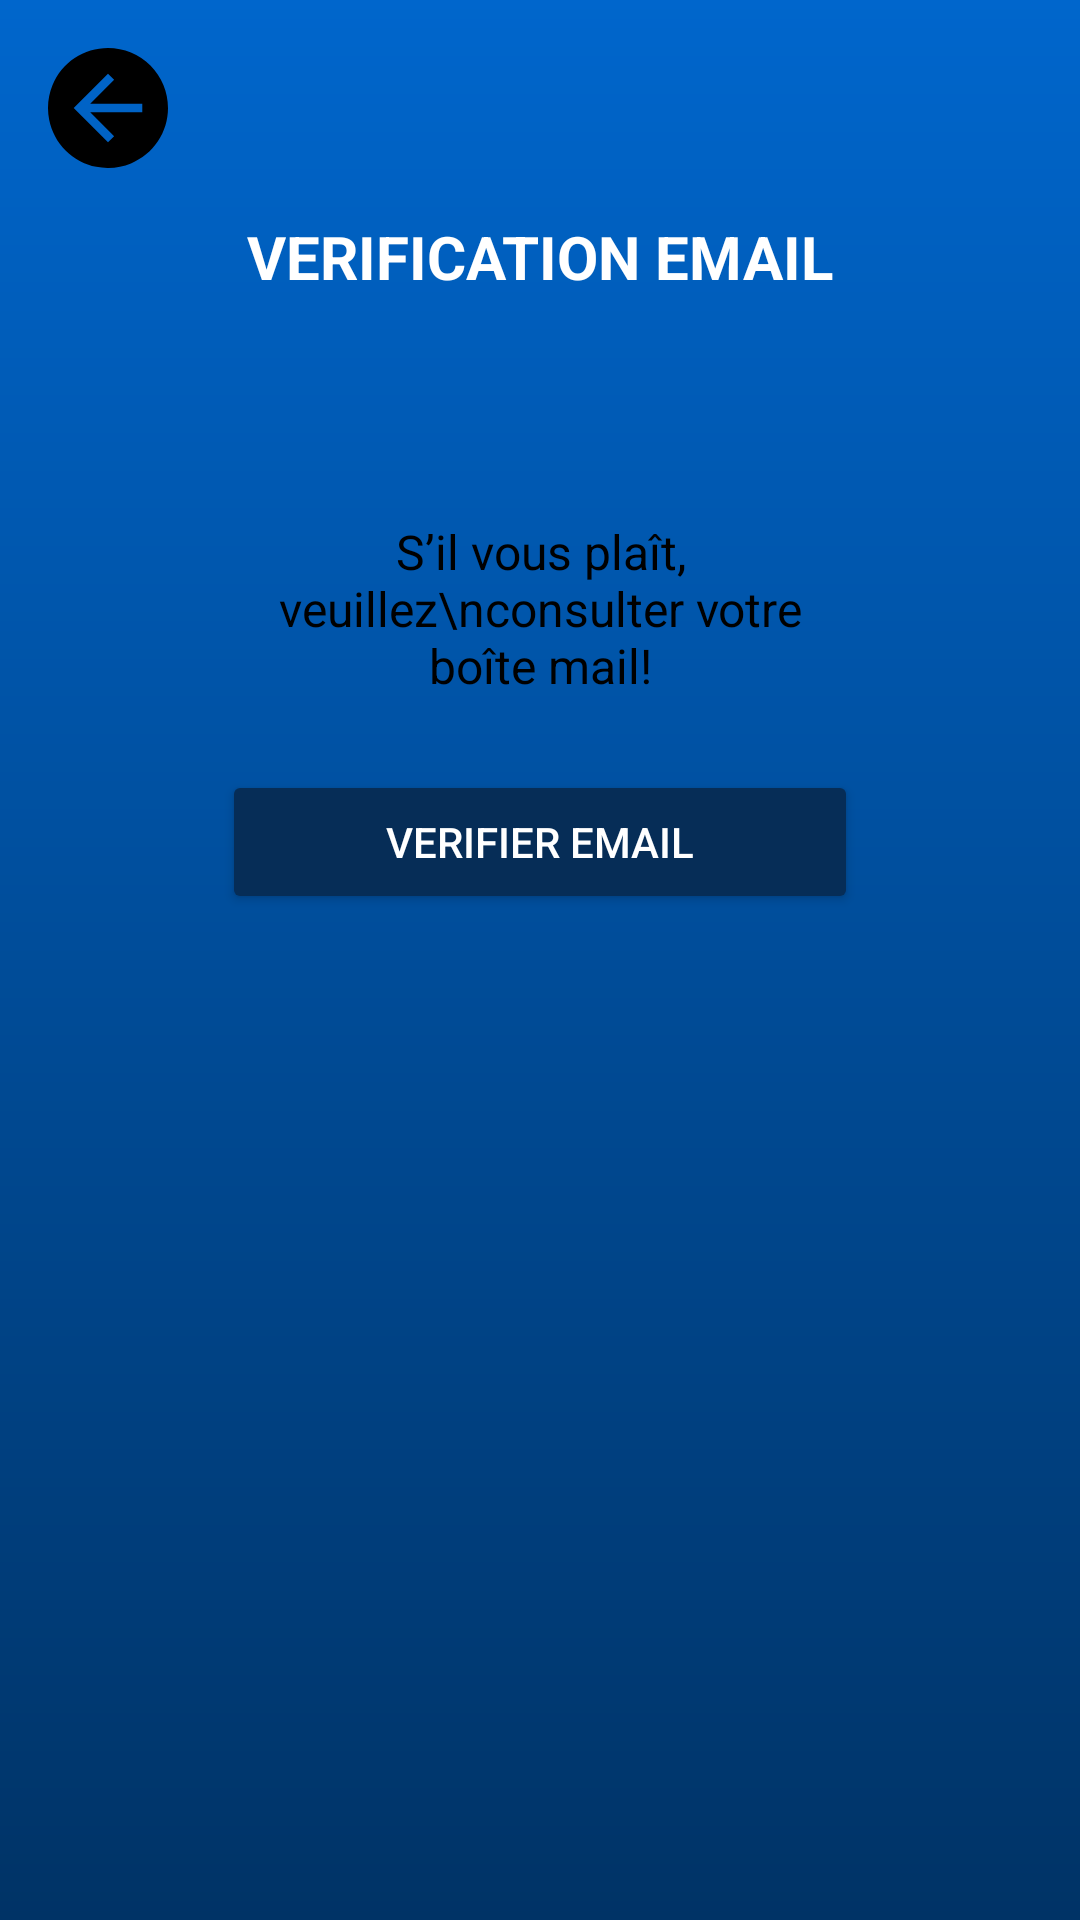

Where icons sit on this 1080×1920 app screen, as box=[x1, y1, x2, y2]:
Back: box=[48, 48, 168, 168]
